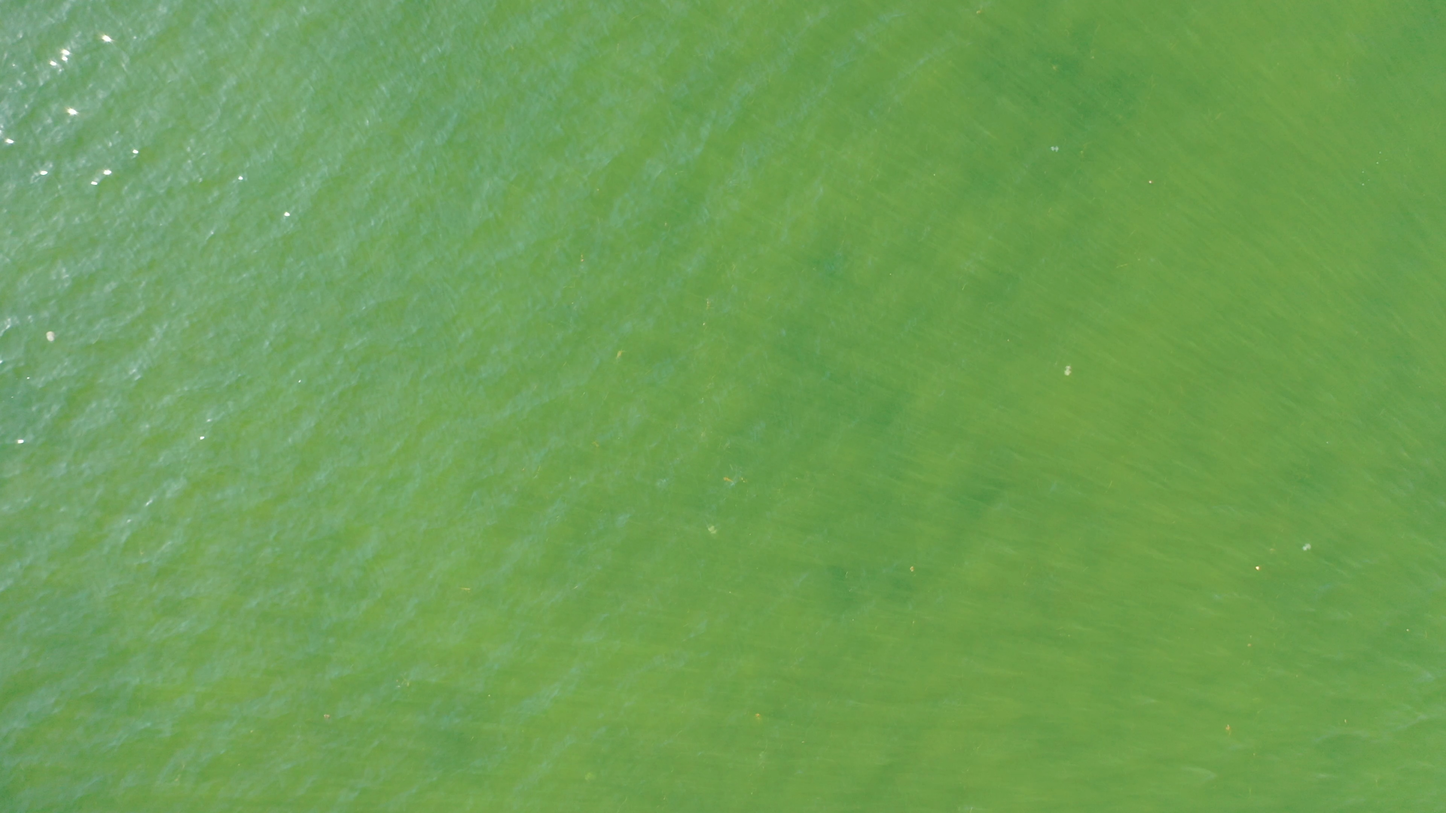meduse: (1065, 364, 1074, 376), (1304, 541, 1313, 552), (710, 526, 718, 535), (1051, 146, 1059, 153)
